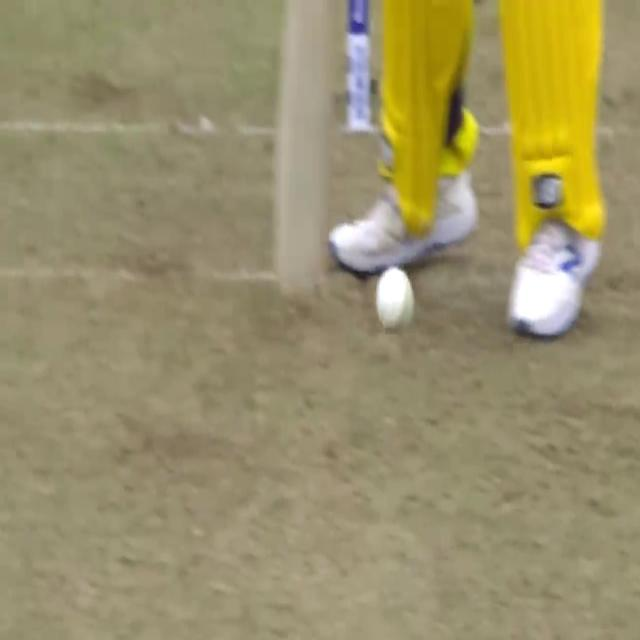ball: (368, 254, 424, 348)
